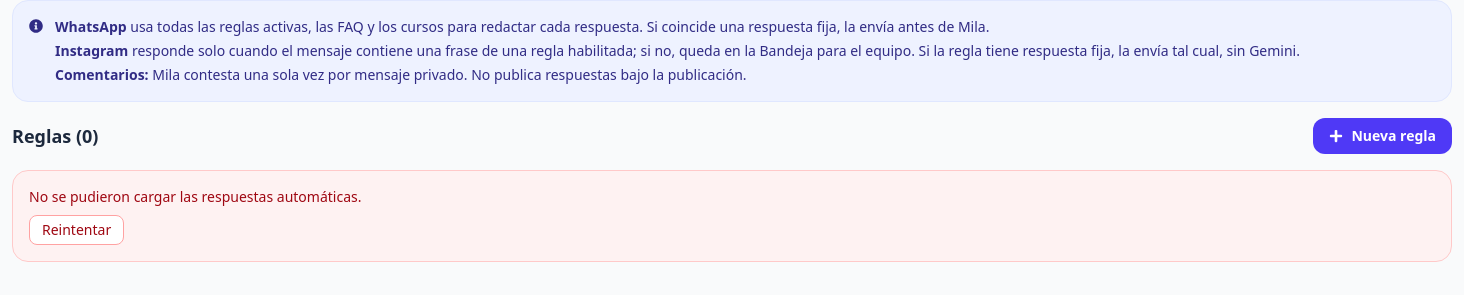
Scenario: TrainingTab (Respuestas automáticas) › tells a failed load apart from an empty list, and retries
Expected: the message shows "No se pudieron cargar las respuestas automáticas.", [29,187,362,206]
Click the button "Reintentar": click(77, 230) [29,215,124,245]
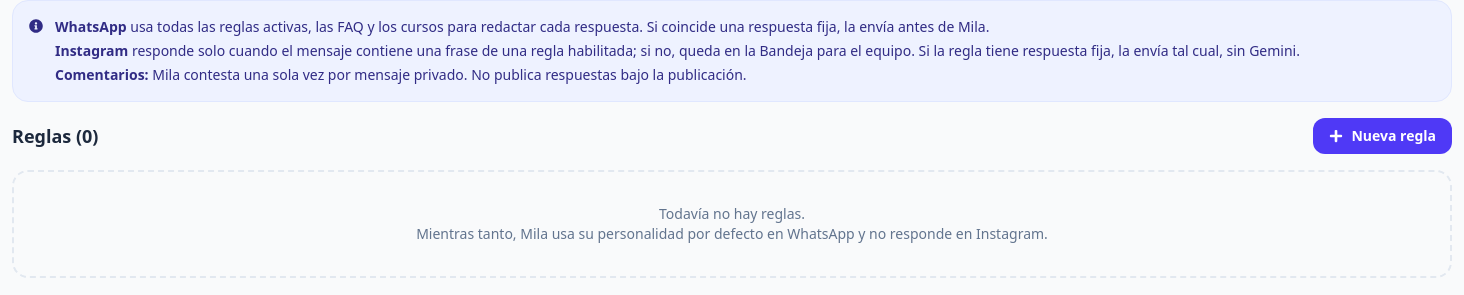
Expected: the text "Todavía no hay reglas." is shown, [659,204,805,223]
